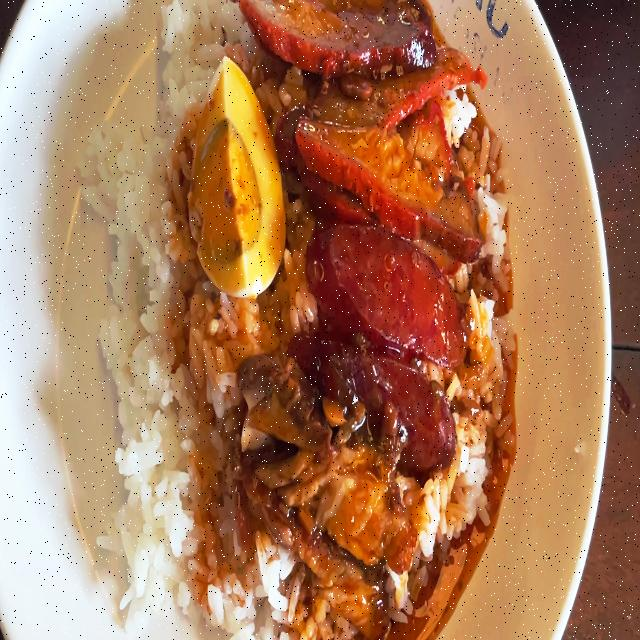boiled_egg: (194, 62, 280, 292)
chainese_sausage: (310, 232, 464, 452), (326, 230, 457, 348), (328, 352, 457, 455)
crispy_pork: (279, 453, 411, 622)
red_pork: (261, 0, 486, 228), (314, 135, 487, 234), (259, 1, 439, 60)
red_pork_and_crispy_pork: (89, 0, 493, 640)
rice: (108, 292, 238, 624), (94, 0, 189, 291), (192, 0, 242, 53)
